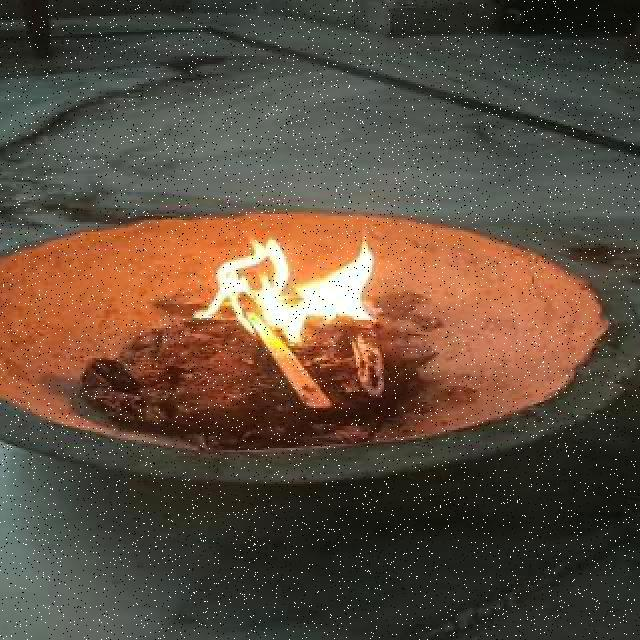Fire: (184, 216, 384, 346)
